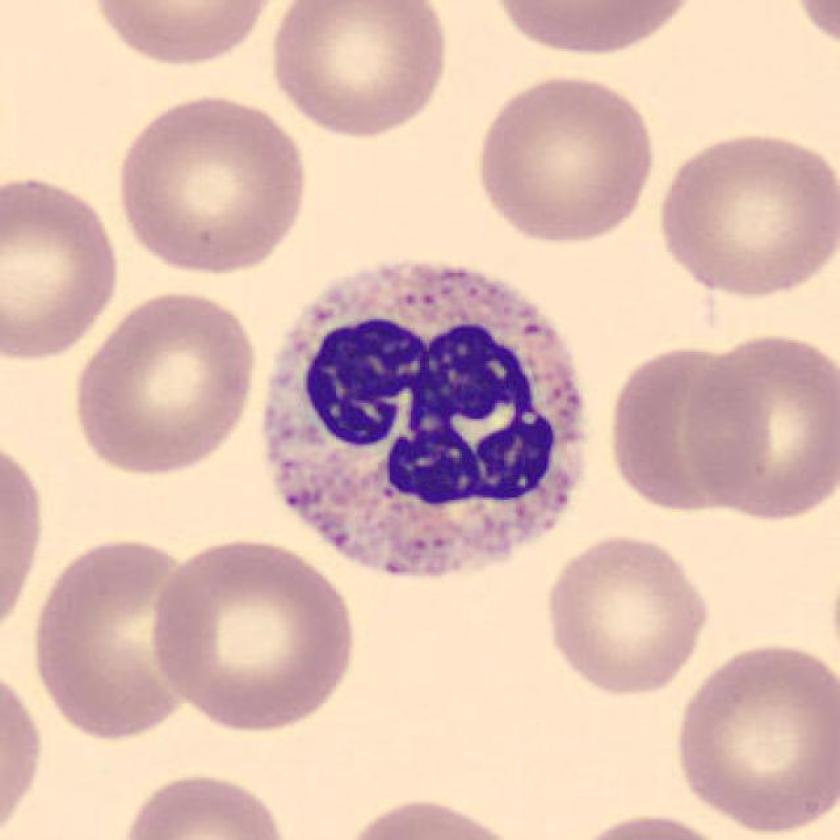neutrophil: (267, 264, 585, 577)
